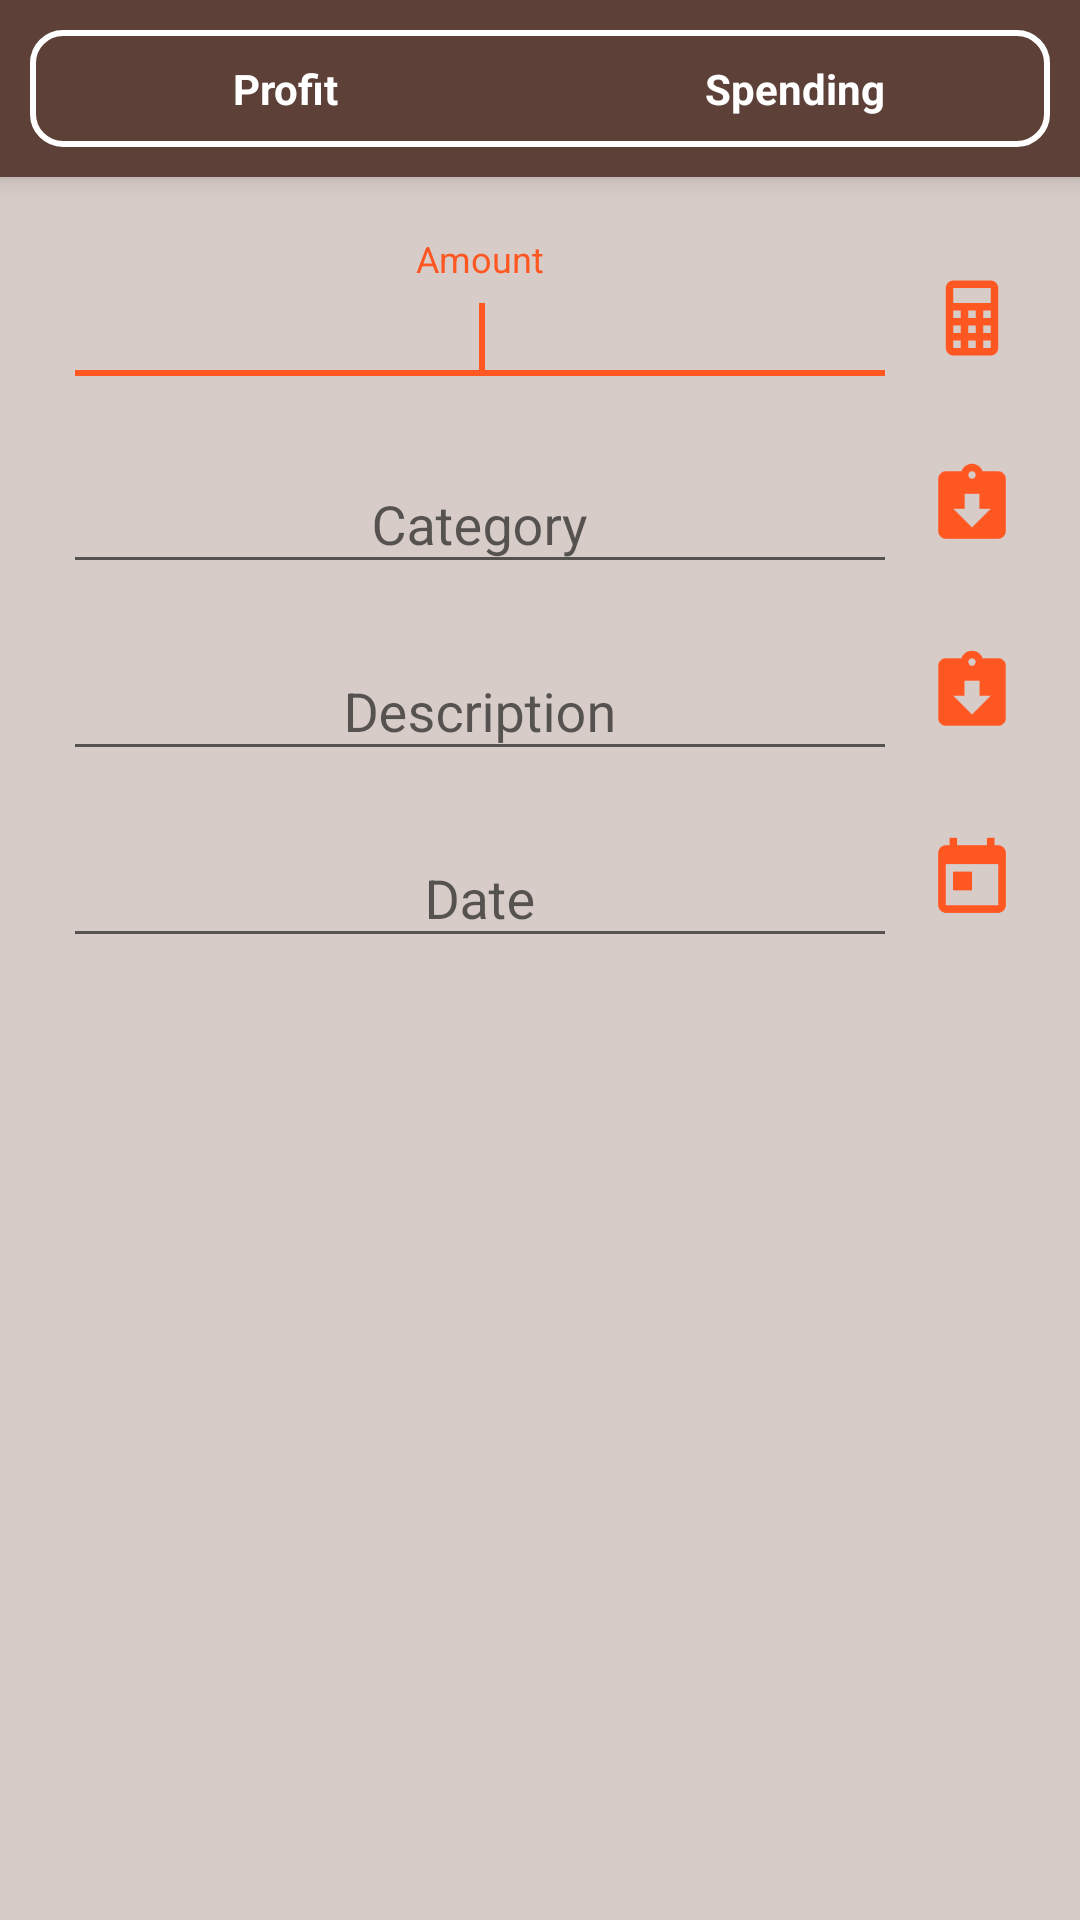

Locate icon controls on the screen. Image size 1080×1920, boxes as {"left": x1, "top": y1, "right": x2, "bottom": y2}.
calculator: {"left": 945, "top": 280, "right": 999, "bottom": 356}
calendar: {"left": 938, "top": 837, "right": 1006, "bottom": 913}
clipboard: {"left": 938, "top": 463, "right": 1006, "bottom": 539}, {"left": 938, "top": 650, "right": 1006, "bottom": 726}
